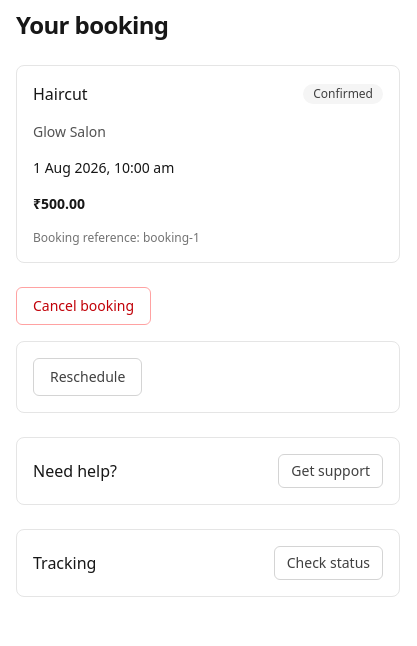
Test case: BookingStatusPage › checks tracking and honestly shows an inactive status for a domain with no live feed
Click the button "Check status".
click(328, 563)  # box [274,546,383,580]
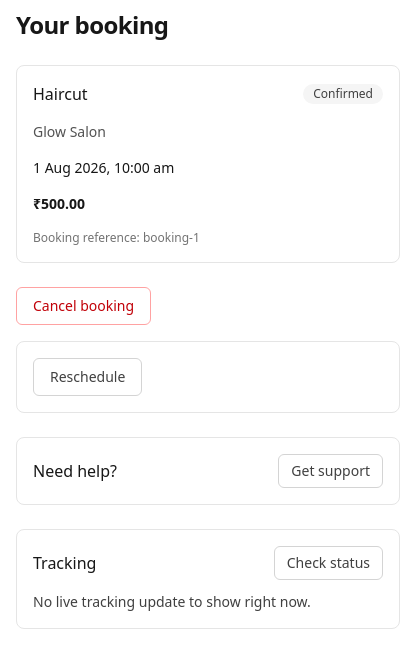
Expected: the text "No live tracking update to show right now." is shown, [33,592,311,611]
